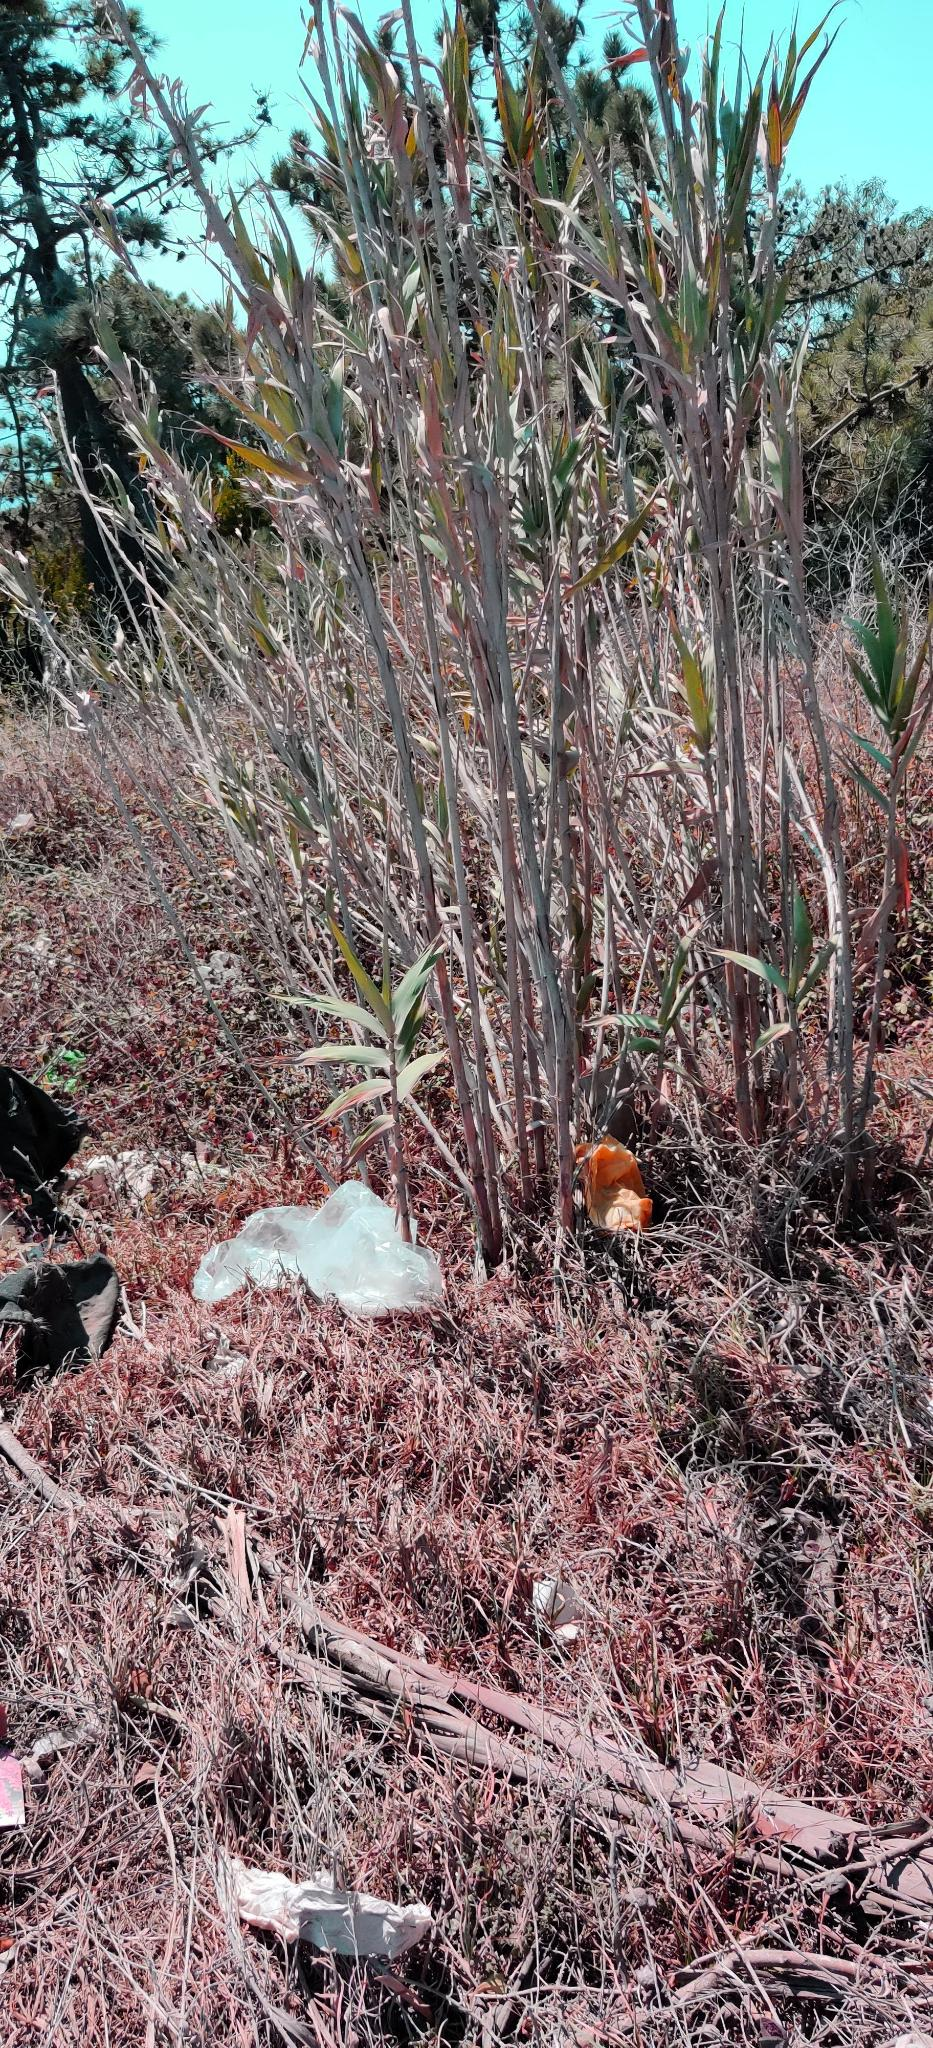Plastic: (183, 1173, 453, 1326), (562, 1126, 659, 1240)
